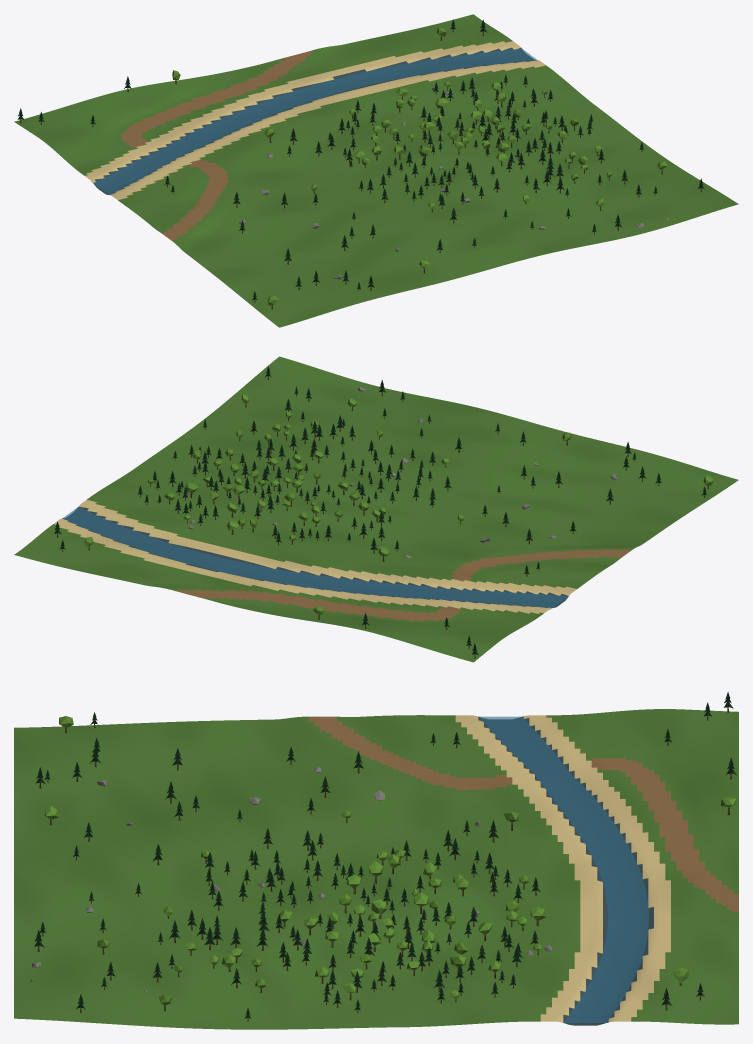
The model's file is chunk_1_1.glb.
3 renders of one model, top to bottom at view 1: azimuth 30°, elevation 25°; view 2: azimuth 150°, elevation 25°; view 3: azimuth 270°, elevation 25°, orthographic. The views are drawn at different scales.
Visible parts, largest first — view 1: Surface_Grass, Surface_Sand, Surface_Water, Water, Props_Pines, Surface_Dirt, Props_Leaves, Props_Trunks; view 2: Surface_Grass, Surface_Sand, Surface_Water, Water, Props_Pines, Surface_Dirt, Props_Leaves, Props_Trunks; view 3: Surface_Grass, Surface_Sand, Surface_Water, Water, Props_Pines, Surface_Dirt, Props_Leaves, Props_Trunks, Props_Rocks.
Part boxes in pixels (x1,y1,x2,y2): Surface_Grass: [14, 14, 738, 327]; Surface_Sand: [85, 41, 545, 199]; Surface_Water: [93, 47, 535, 194]; Water: [91, 48, 536, 194]; Props_Pines: [18, 19, 704, 300]; Surface_Dirt: [120, 50, 313, 240]; Props_Leaves: [172, 27, 667, 305]; Props_Trunks: [20, 28, 701, 308]; Surface_Grass: [14, 356, 738, 662]; Surface_Sand: [54, 499, 576, 613]; Surface_Water: [62, 507, 568, 607]; Water: [63, 507, 567, 609]; Props_Pines: [54, 366, 706, 655]; Surface_Dirt: [176, 548, 630, 621]; Props_Leaves: [85, 394, 713, 614]; Props_Trunks: [56, 376, 708, 658]; Surface_Grass: [14, 709, 738, 1029]; Surface_Sand: [455, 715, 670, 1022]; Surface_Water: [478, 716, 653, 1025]; Water: [479, 716, 648, 1022]; Props_Pines: [34, 692, 736, 1018]; Surface_Dirt: [308, 716, 738, 912]; Props_Leaves: [44, 716, 736, 1005]; Props_Trunks: [37, 707, 731, 1021]; Props_Rocks: [30, 766, 551, 992].
Size of the model in its own units: 257 by 17.44 by 256.
